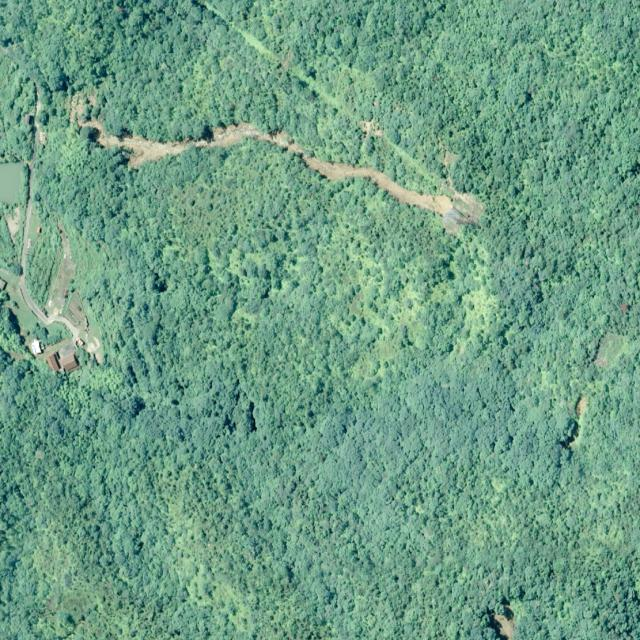landslide: (77, 114, 480, 234)
